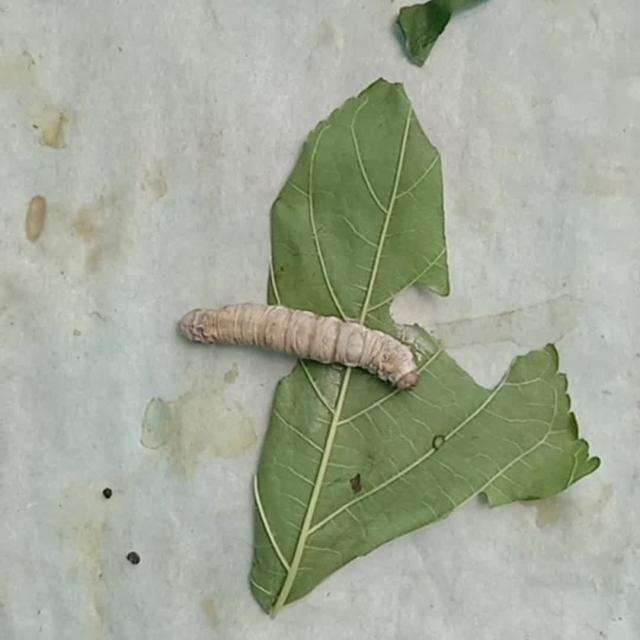Grasserie: (172, 283, 427, 403)
